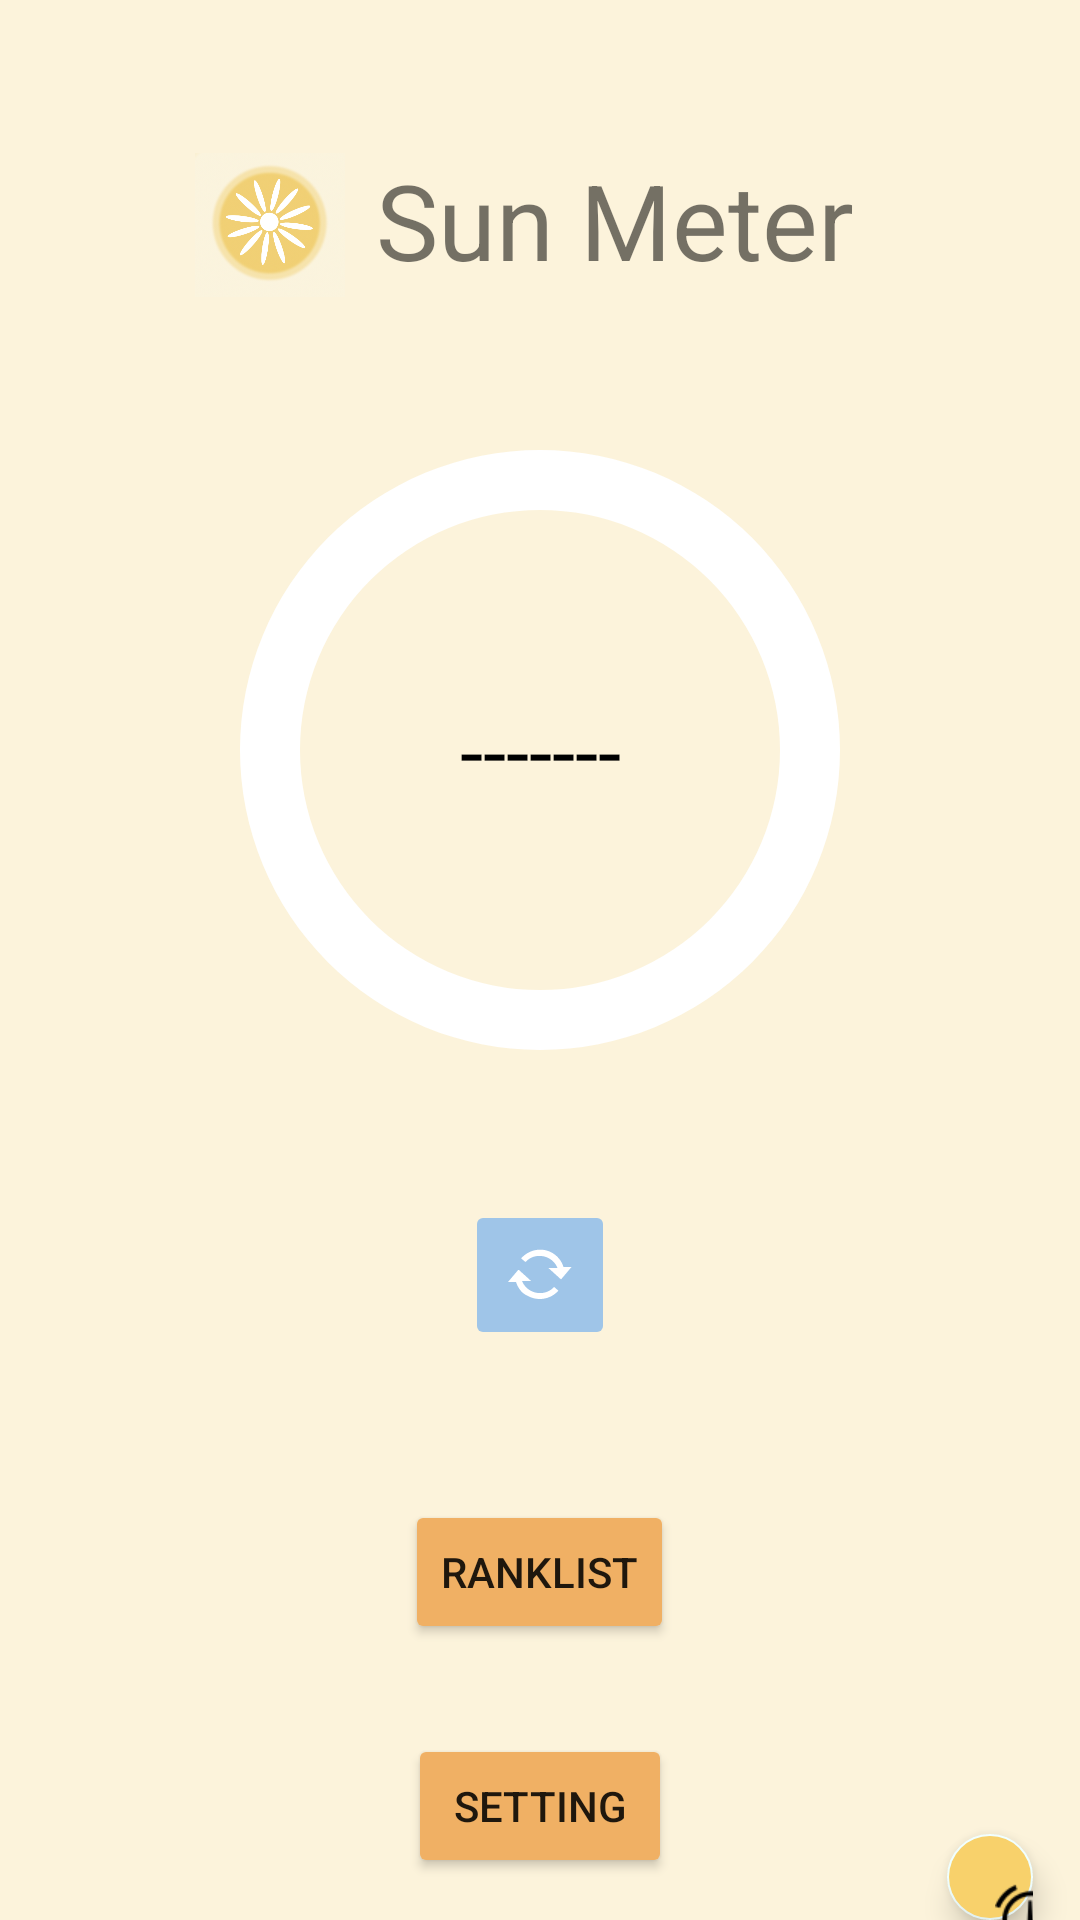

Icons on this 1080 × 1920 Android screen, each with its box as (x1, y1, x2, y2):
sync noanim: (477, 1218, 603, 1332)
